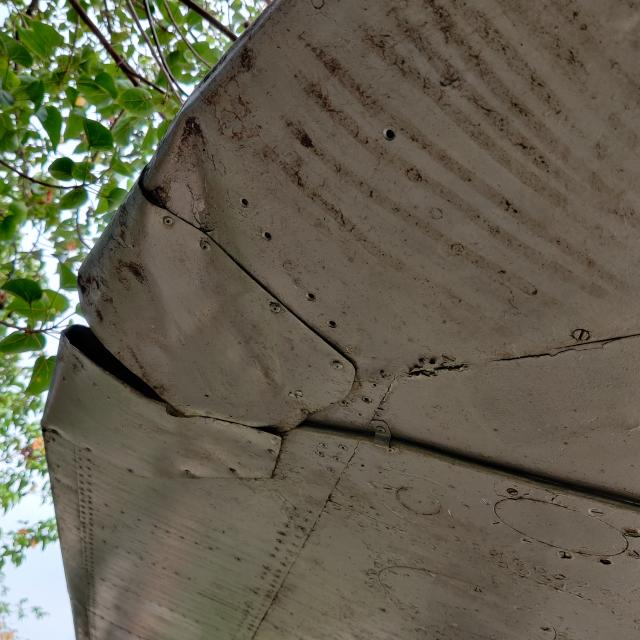dent: (107, 145, 305, 422)
